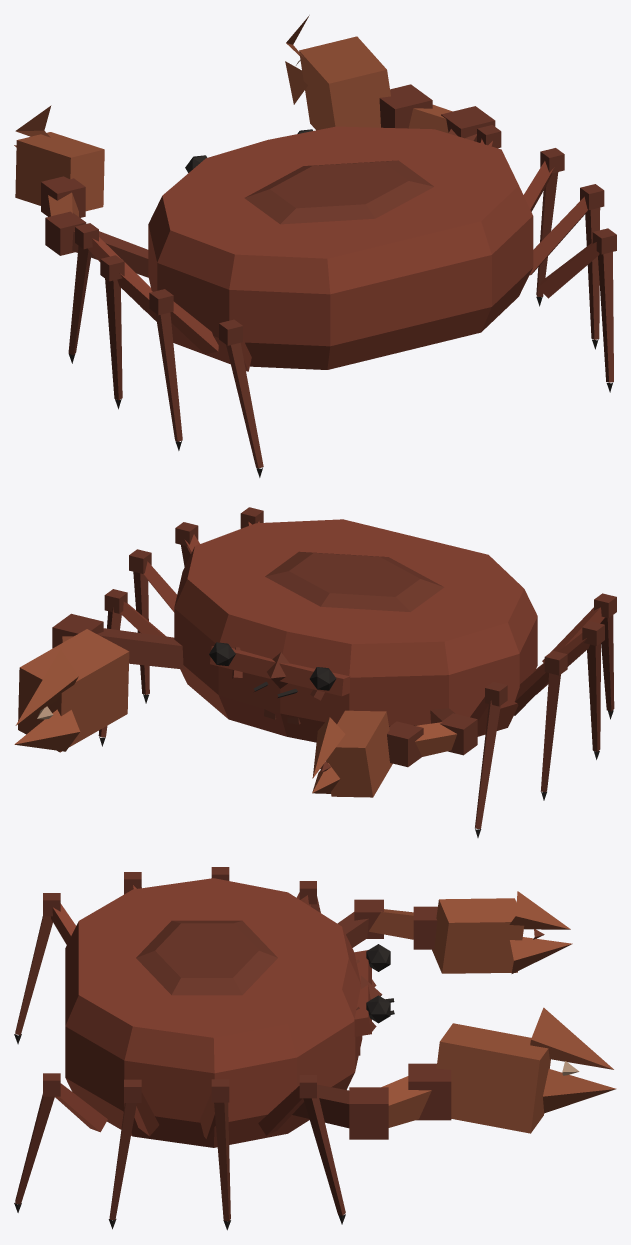
File: trilobite.glb
3 renders of one model, top to bottom at view 1: azimuth 30°, elevation 25°; view 2: azimuth 150°, elevation 25°; view 3: azimuth 270°, elevation 25°, orthographic. The views are drawn at different scales.
Parts seen in each view (by area): view 1: crab_shell, crab_claws, crab_legs; view 2: crab_shell, crab_claws, crab_legs; view 3: crab_shell, crab_claws, crab_legs.
Boxes of the visible parts, x1,y1,x2,y2 form: crab_shell: (148, 126, 533, 369); crab_claws: (14, 15, 495, 277); crab_legs: (68, 125, 616, 477); crab_shell: (174, 519, 537, 742); crab_claws: (14, 613, 477, 797); crab_legs: (98, 507, 616, 837); crab_shell: (65, 878, 394, 1147); crab_claws: (291, 891, 616, 1139); crab_legs: (14, 867, 345, 1230).
Bounding box in the file's own units: 0.3852 × 0.1553 × 0.4466.
